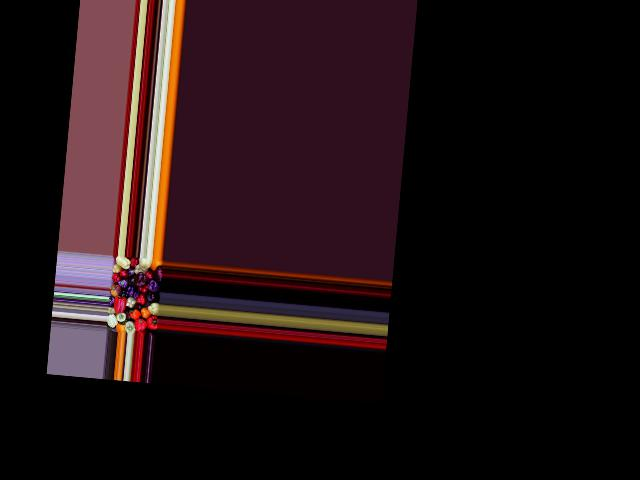bell_pepper: (125, 319, 136, 333)
